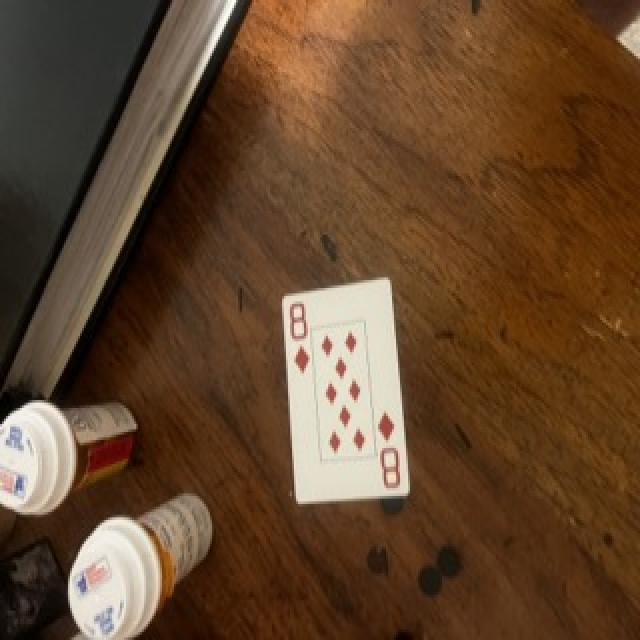8 of diamonds: (282, 278, 408, 505)
